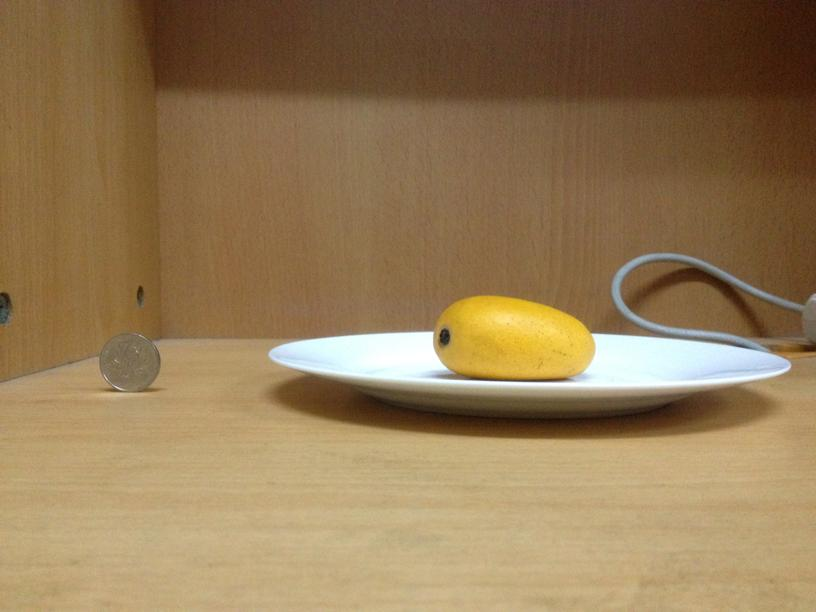coin: (101, 331, 160, 392)
mango: (430, 295, 594, 378)
